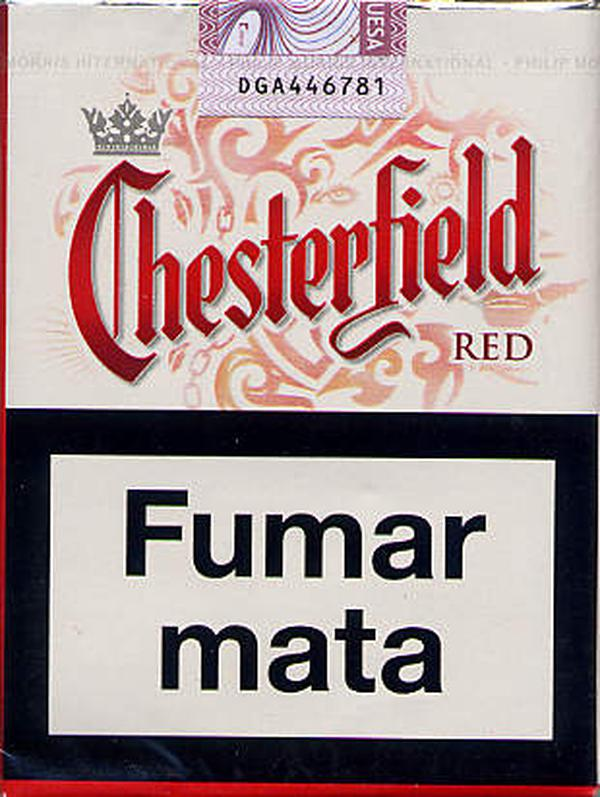chesterfield_red: (5, 6, 600, 783)
